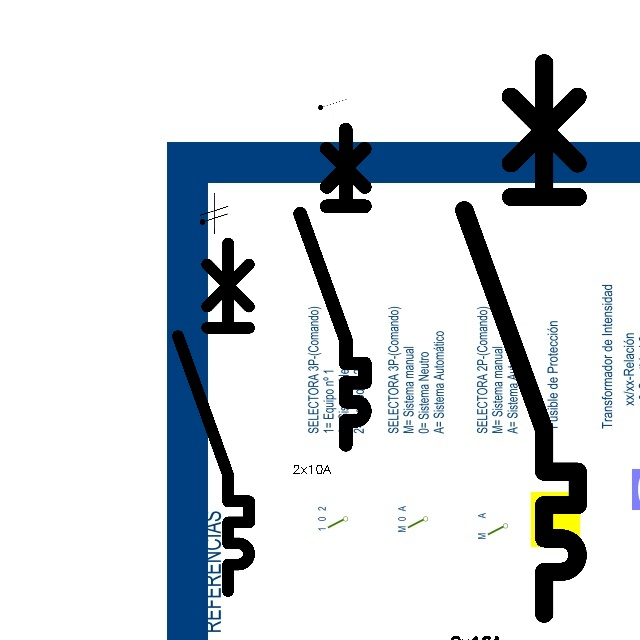interruptor_termomagnetico: (450, 49, 592, 628), (169, 234, 258, 599), (292, 121, 373, 452)
